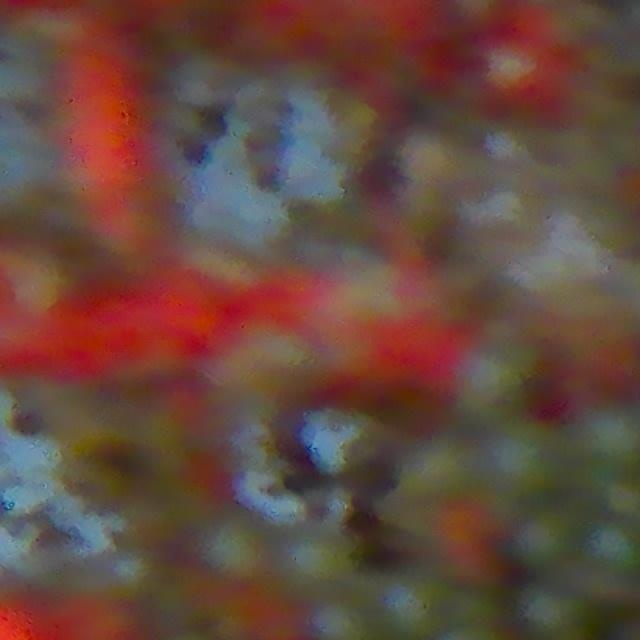SeaGrape: (456, 336, 519, 407), (515, 580, 585, 640), (579, 402, 640, 470), (511, 508, 576, 570), (488, 427, 548, 494), (582, 518, 640, 579), (383, 574, 436, 627)
